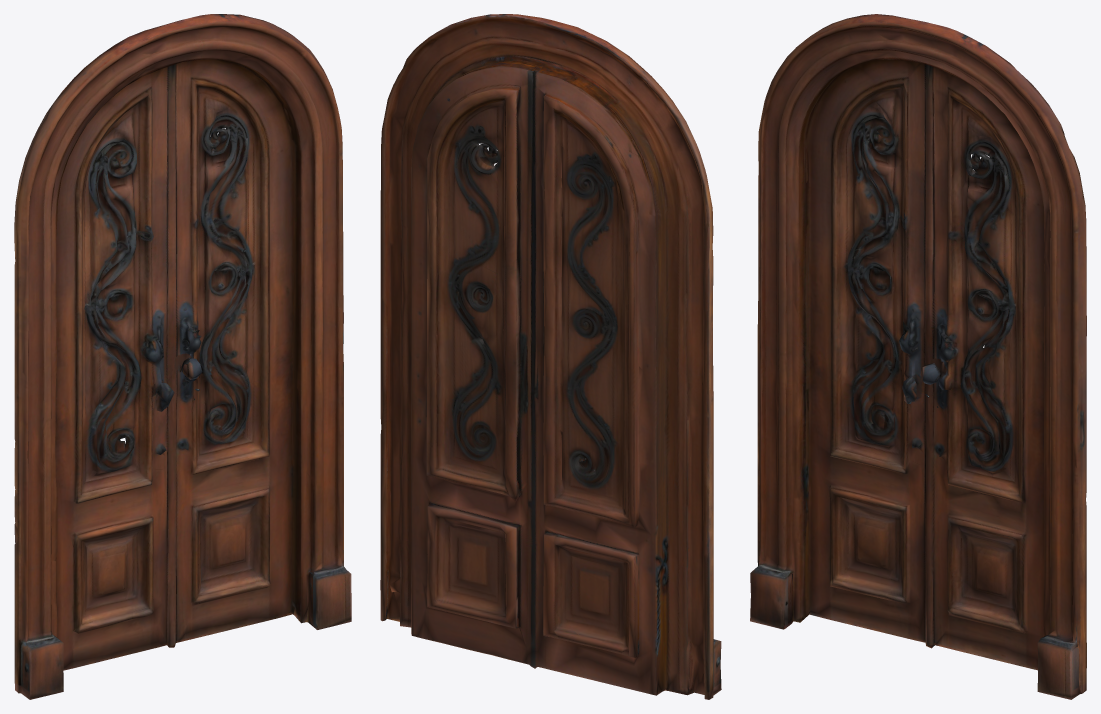
File: WoodenDoubleDoor.glb
3 renders of one model, left to right at view 1: azimuth 30°, elevation 25°; view 2: azimuth 150°, elevation 25°; view 3: azimuth 330°, elevation 25°, orthographic.
Bounding box in the file's own units: 1.08 × 2 × 0.1676.
1 material, 1 textured.
